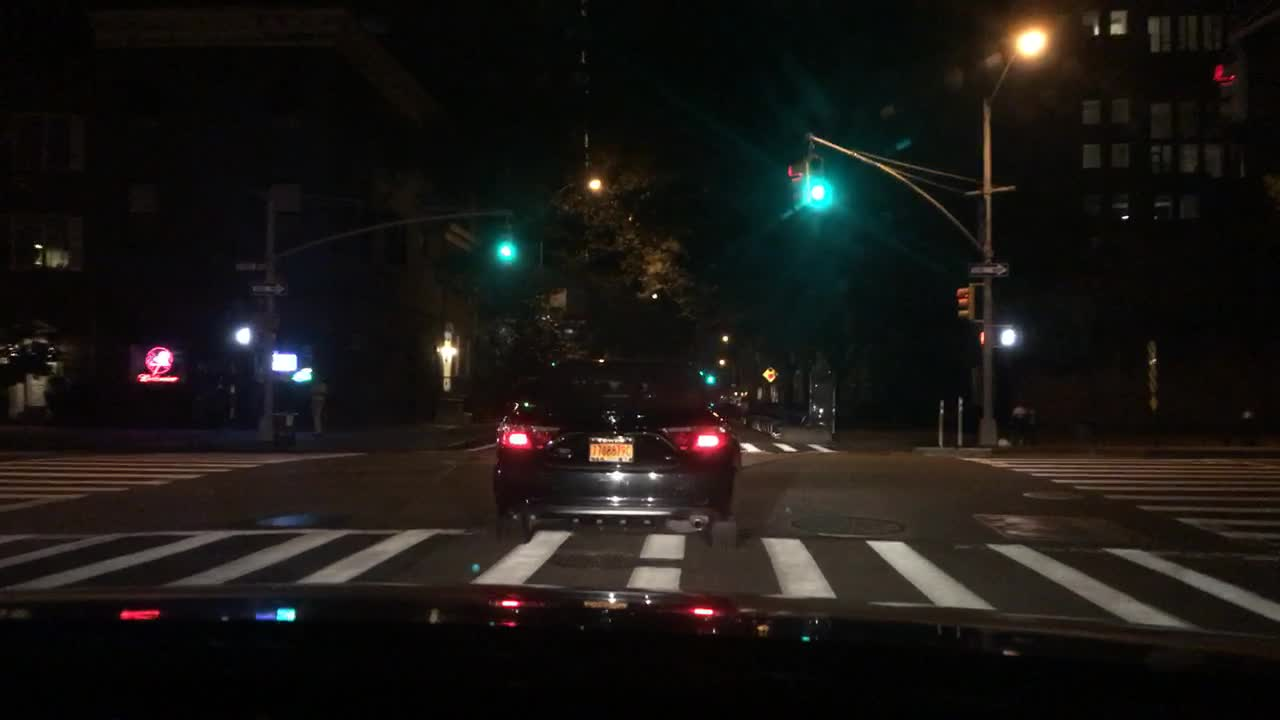car: (491, 350, 739, 543)
person: (309, 373, 329, 440)
traffic light: (1213, 58, 1236, 114), (804, 172, 831, 209), (787, 162, 801, 209), (957, 288, 975, 322), (496, 236, 515, 264), (231, 326, 256, 347), (702, 369, 723, 388), (1000, 326, 1017, 345), (980, 331, 986, 347), (1081, 133, 1082, 149)
traffic sign: (272, 180, 301, 214), (269, 351, 296, 373), (547, 284, 568, 309), (252, 282, 286, 296), (970, 263, 1009, 275), (235, 260, 264, 274), (761, 365, 778, 382)
